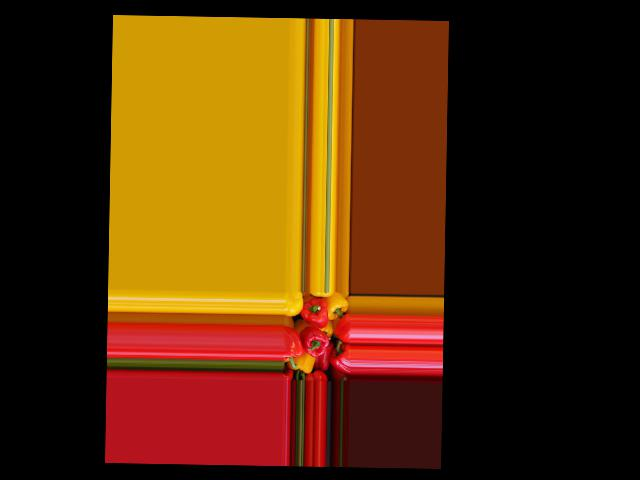bell_pepper: (324, 292, 346, 317)
